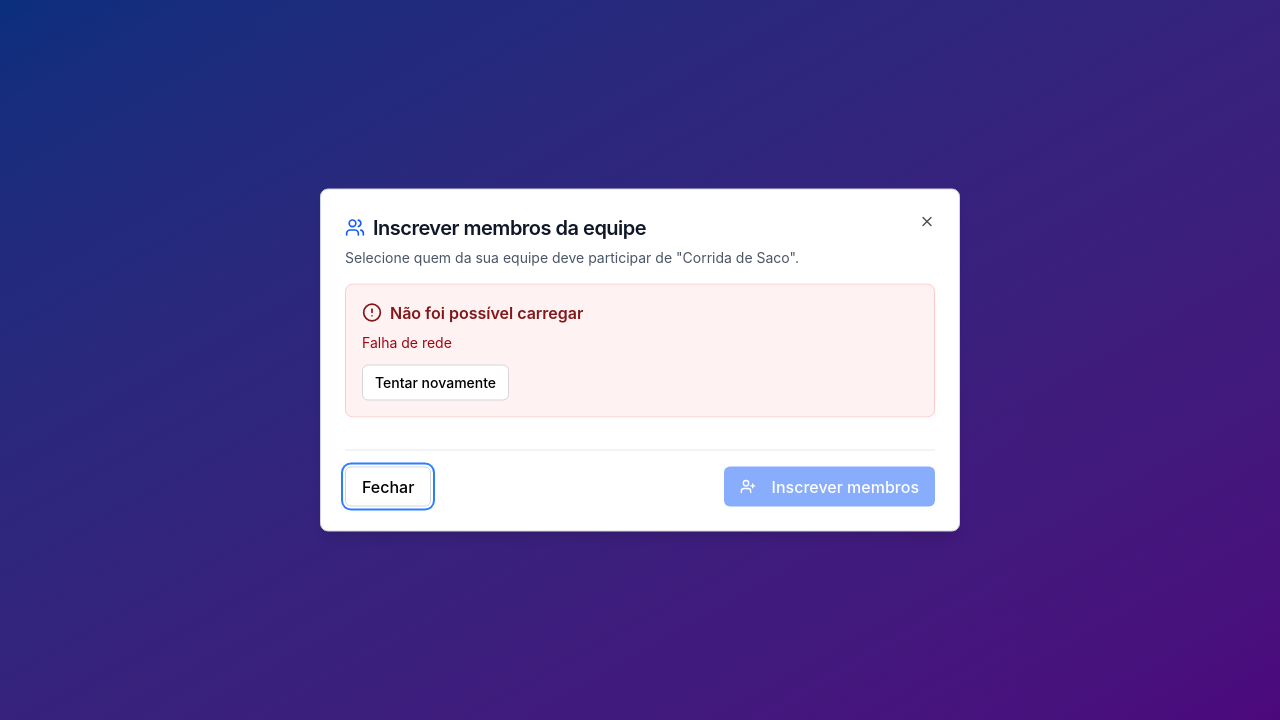
InscreverMembrosEquipeModal › oferece tentar de novo quando a carga falha
Expected: the text "Falha de rede" is shown, [362,334,452,350]
Click the button "Tentar novamente": (436, 382) [362,364,509,400]
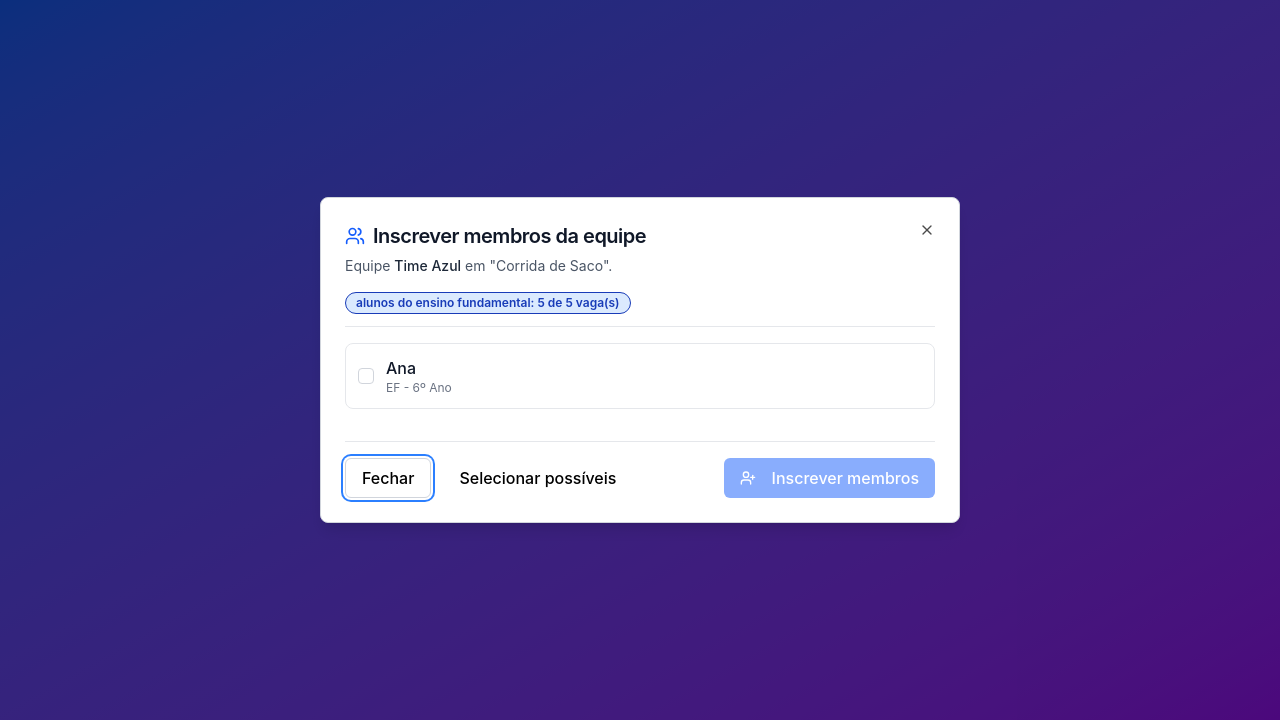
Expected: the text "Ana" is shown, [386,358,416,378]
